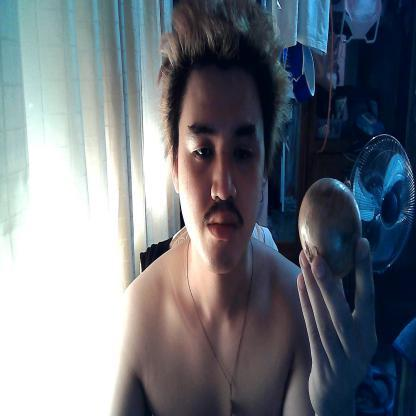onion: (298, 165, 370, 281)
